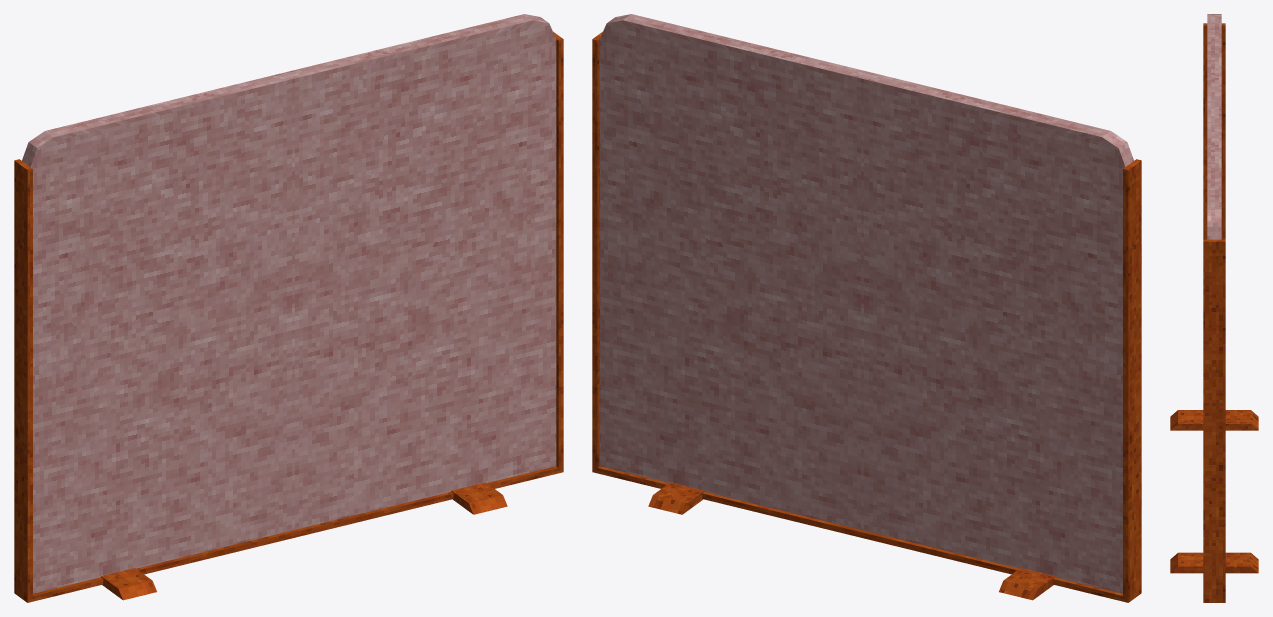
Rendered from divider_veneer_red.glb.
3 views of the same model, side by side, from view 1: azimuth 30°, elevation 25°; view 2: azimuth 150°, elevation 25°; view 3: azimuth 270°, elevation 25° (orthographic). The views are drawn at different scales.
Visible parts, largest first — view 1: divider_veneer_red; view 2: divider_veneer_red; view 3: divider_veneer_red.
Boxes of the visible parts, x1,y1,x2,y2 form: divider_veneer_red: [14, 14, 563, 602]; divider_veneer_red: [592, 14, 1141, 602]; divider_veneer_red: [1170, 14, 1258, 602].
Size of the model in its own units: 3.06 by 2.5 by 0.523.
1 material, 1 textured.
